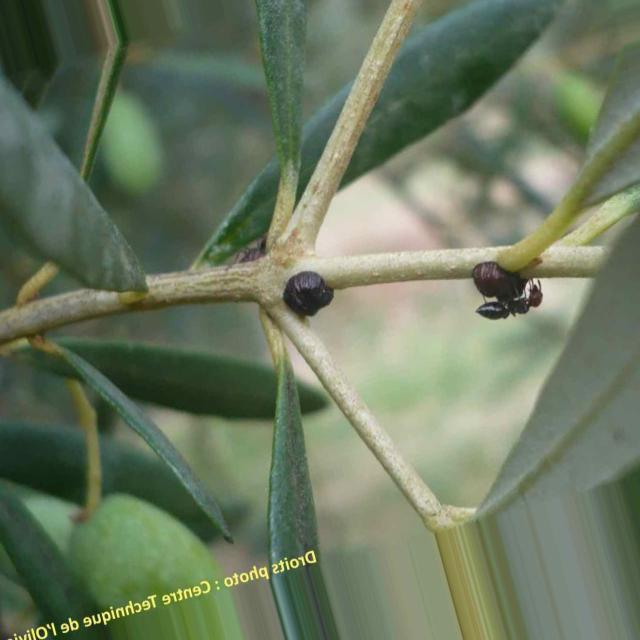Black Scale: (283, 271, 334, 317), (471, 260, 526, 302)
